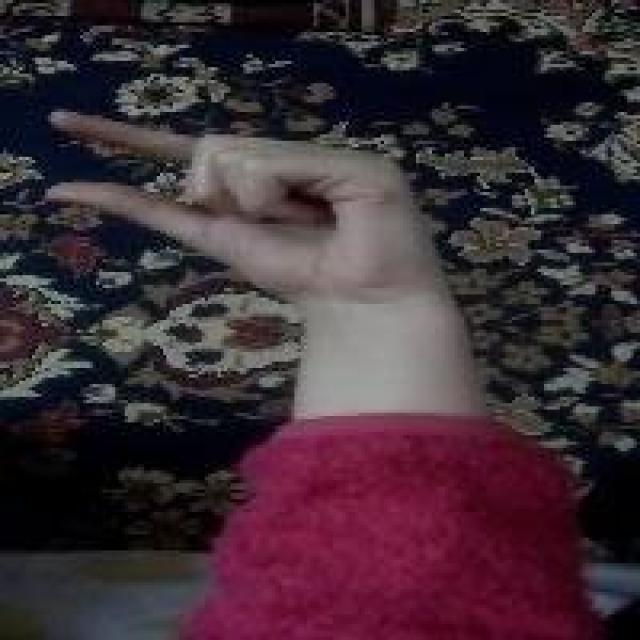G: (43, 99, 434, 288)
